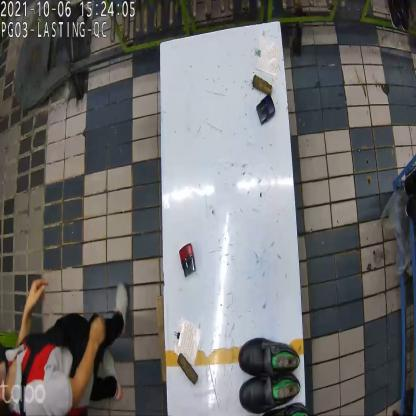shoes: (240, 336, 301, 405)
stamp: (254, 93, 275, 128), (179, 247, 197, 279)
